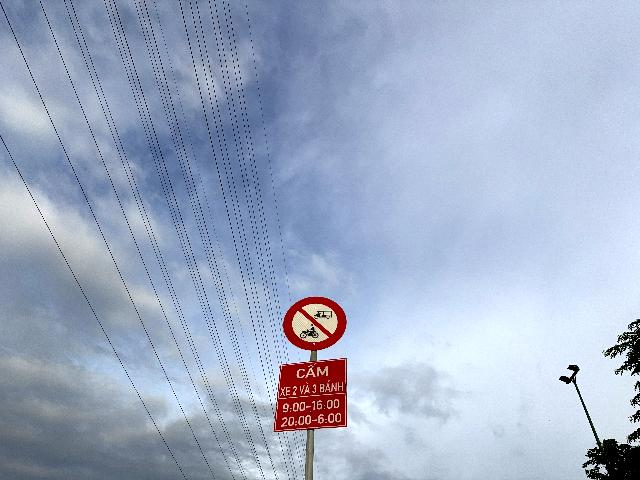cam-xe-2-banh-3-banh: (283, 296, 347, 351)
